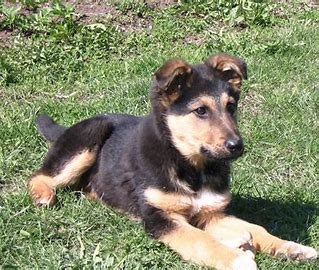dog: (30, 47, 314, 270)
